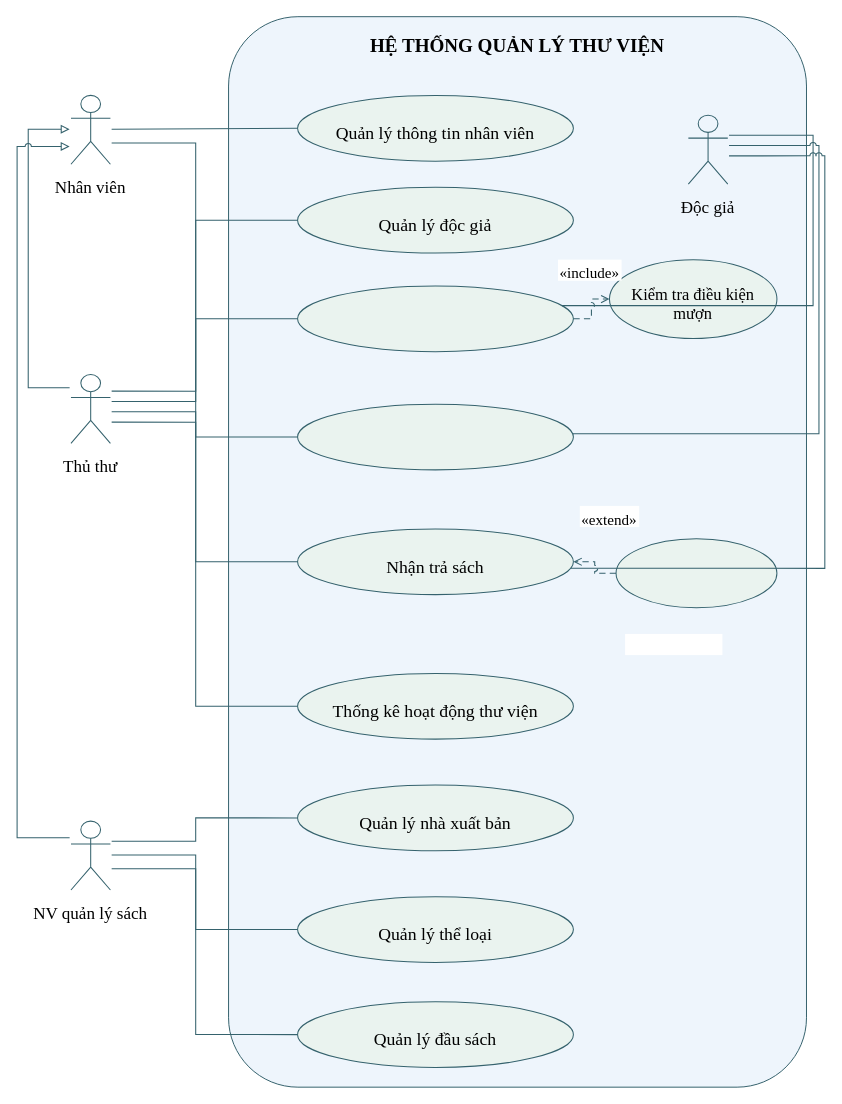
Image size: 842x1104. Some labels were removed from this diagram. The shapes that lost their labels are listed below. From the top down, each one's box as (x1, y1, x2, y2) in pixels, then its label:
(297, 285, 573, 352): Lập phiếu mượn
(297, 403, 573, 470): Cấp / Gia hạn thẻ
(615, 538, 777, 608): Lập phiếu phạt
(625, 633, 722, 655): [Trễ / mất / hư]
